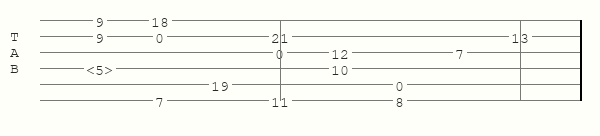0: (155, 30, 168, 43), (275, 46, 288, 59), (395, 78, 408, 91)
10: (331, 62, 353, 75)
11: (271, 94, 293, 107)
12: (331, 46, 353, 59)
13: (511, 30, 533, 43)
18: (151, 14, 173, 27)
19: (211, 78, 233, 91)
21: (271, 30, 293, 43)
7: (155, 94, 168, 107), (455, 46, 468, 59)
8: (395, 94, 408, 107)
9: (95, 14, 108, 27), (95, 30, 108, 43)
harmonic: (86, 62, 117, 75)
